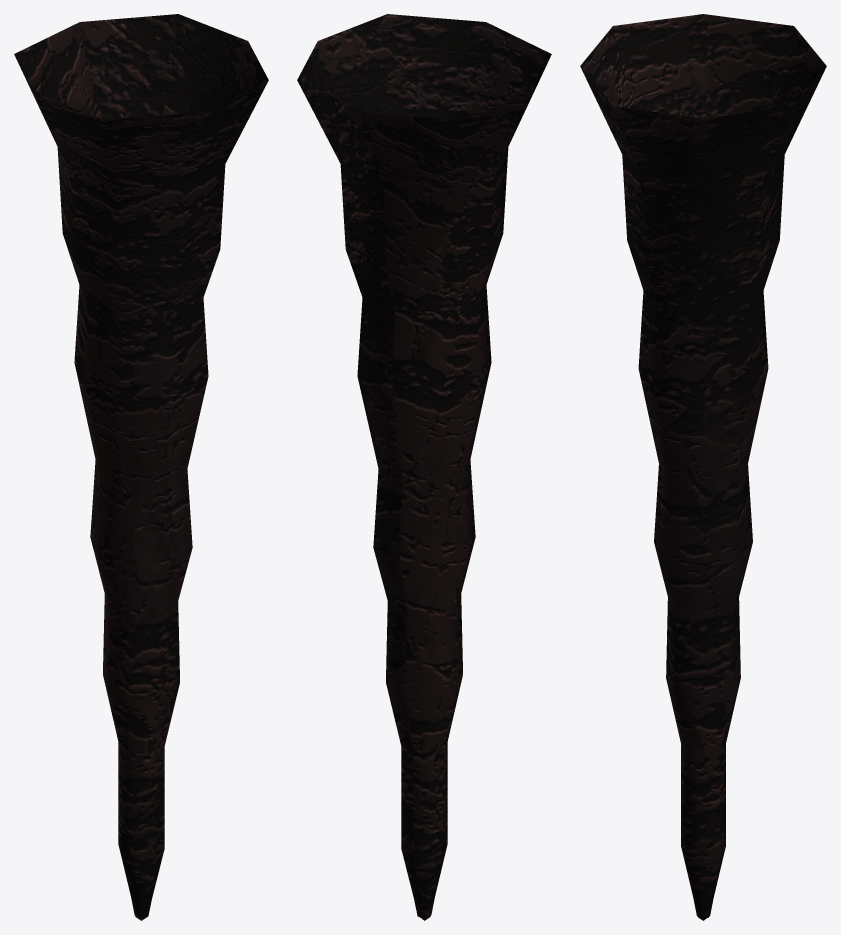
The model's file is stalagtite.fbx.
The picture shows the model from 3 angles, left to right: view 1: azimuth 30°, elevation 25°; view 2: azimuth 150°, elevation 25°; view 3: azimuth 270°, elevation 25°; orthographic projection.
Visible parts, largest first — view 1: stalagtite; view 2: stalagtite; view 3: stalagtite.
Boxes of the visible parts, x1=… form: stalagtite: x1=14, y1=14, x2=268, y2=920; stalagtite: x1=297, y1=14, x2=551, y2=920; stalagtite: x1=580, y1=14, x2=826, y2=920.
Size of the model in its own units: 1 by 3.82 by 1.
